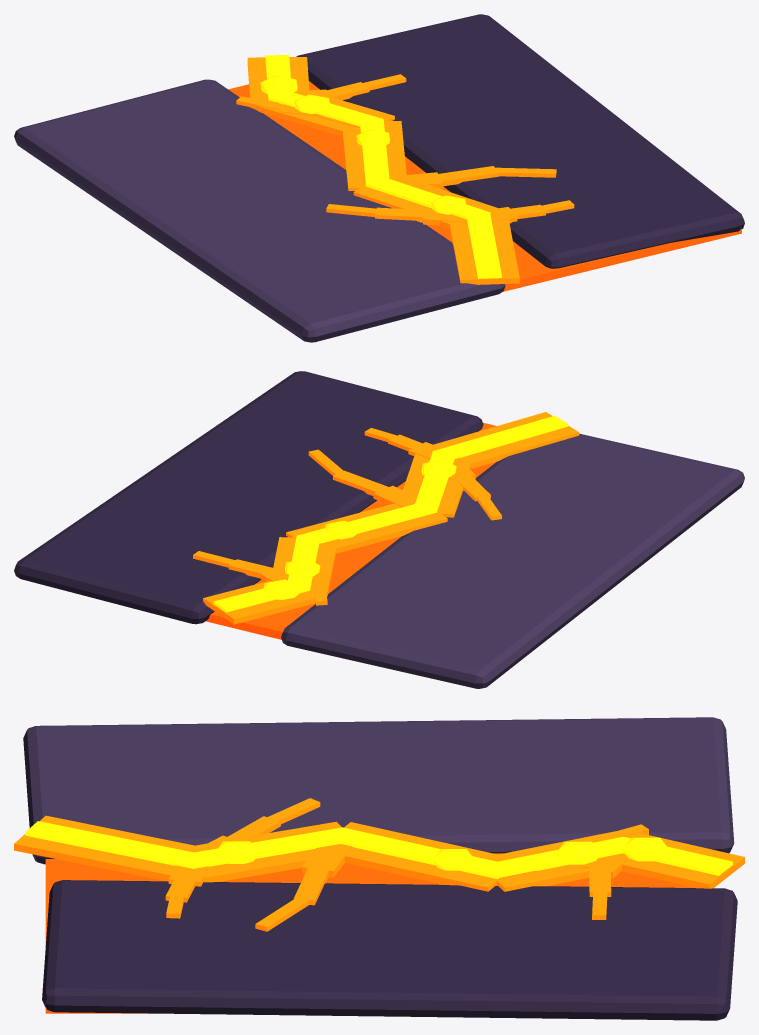
The model's file is terrain_lava.glb.
3 renders of one model, top to bottom at view 1: azimuth 30°, elevation 25°; view 2: azimuth 150°, elevation 25°; view 3: azimuth 270°, elevation 25°, orthographic. The views are drawn at different scales.
Parts seen in each view (by area): view 1: terrain_lava; view 2: terrain_lava; view 3: terrain_lava.
Boxes of the visible parts, x1,y1,x2,y2 form: terrain_lava: (14,14,744,342); terrain_lava: (14,371,744,688); terrain_lava: (14,717,744,1020).
Size of the model in its own units: 1.85 by 0.1213 by 1.97.
